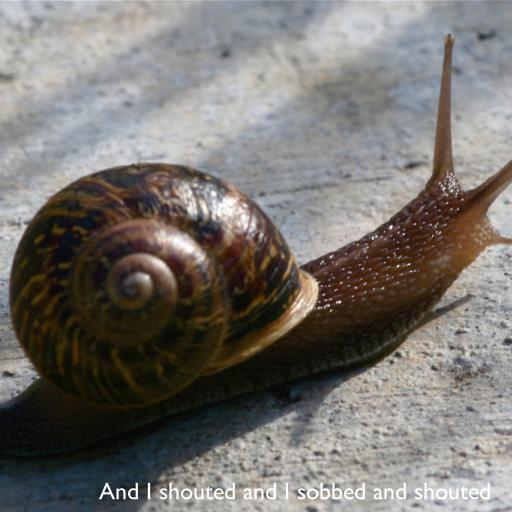Gill Sans: (99, 482, 491, 500)
